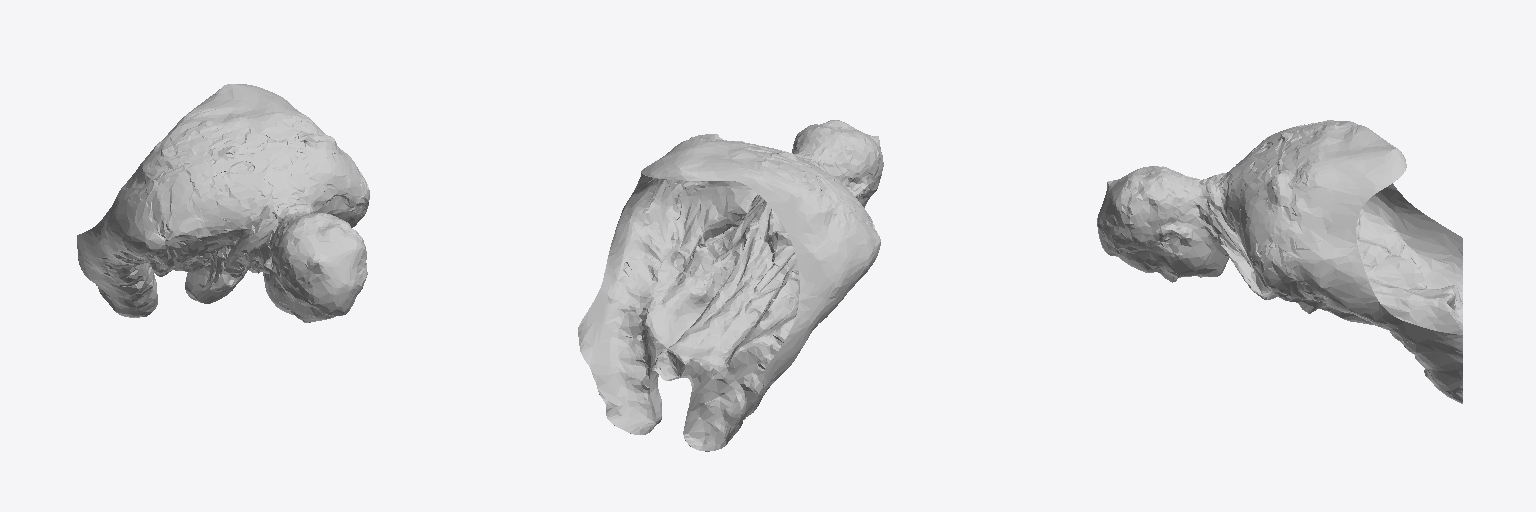
The model's file is Sohail.obj.
3 renders of one model, left to right at view 1: azimuth 30°, elevation 25°; view 2: azimuth 150°, elevation 25°; view 3: azimuth 270°, elevation 25°, orthographic.
Bounding box in the file's own units: 13.08 × 13.11 × 17.73.